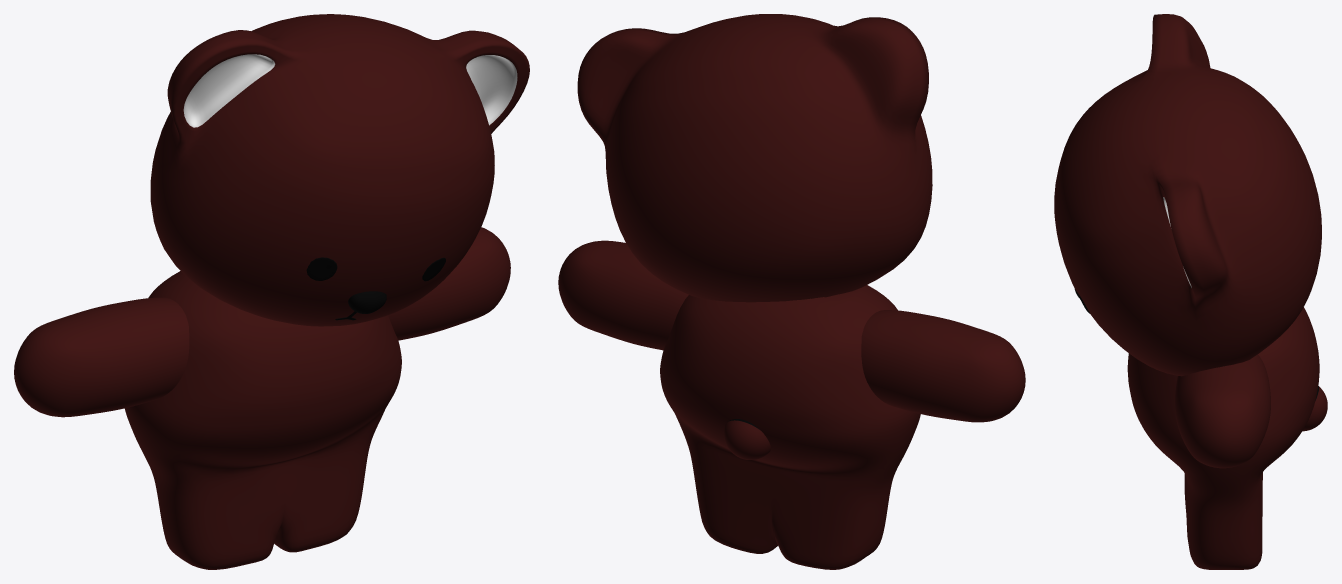
File: darkB Ear_C.fbx
3 views of the same model, side by side, from view 1: azimuth 30°, elevation 25°; view 2: azimuth 150°, elevation 25°; view 3: azimuth 270°, elevation 25° (orthographic). The views are drawn at different scales.
Visible parts, largest first — view 1: darkB Ear_C; view 2: darkB Ear_C; view 3: darkB Ear_C.
Boxes of the visible parts, box(x1,y1,x2,y2) form: darkB Ear_C: box(14, 14, 529, 569); darkB Ear_C: box(558, 14, 1025, 569); darkB Ear_C: box(1054, 14, 1327, 569).
Size of the model in its own units: 460 by 495 by 248.
